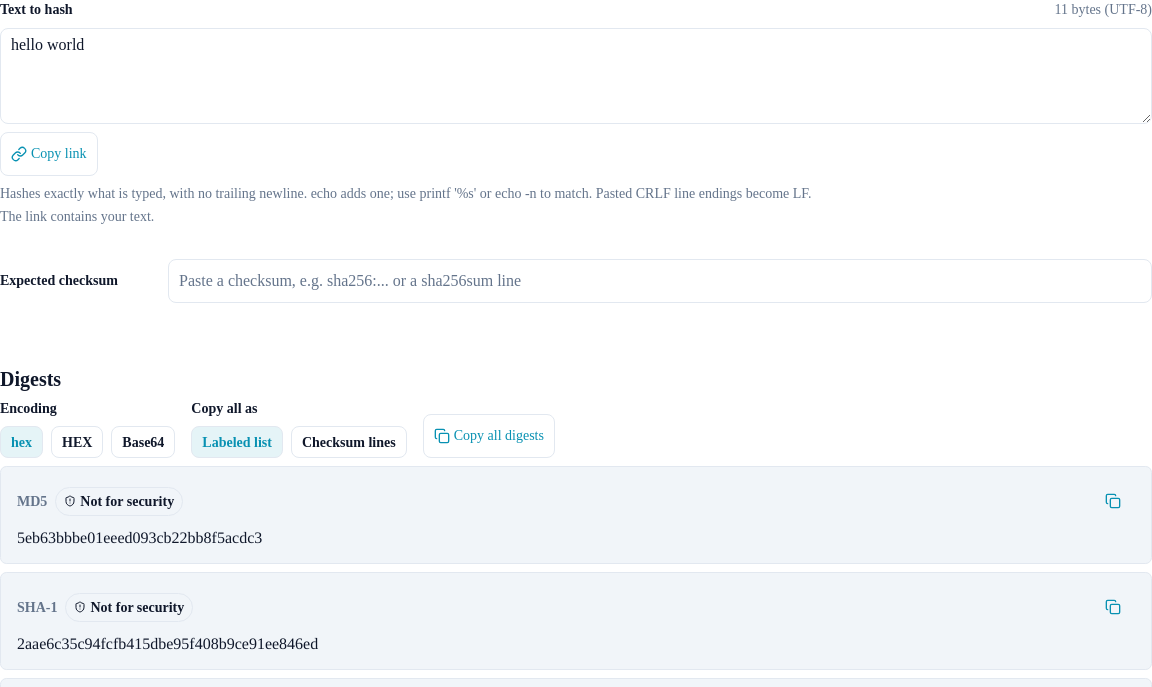
HashTool live hashing (TEXT-02) › TEXT-02: typing the sample text back shows the sample digests instantly via cancel(), without start()
Replace the text in the text box with test id "hash-input" with "abc" at {"x": 576, "y": 76}, box [0,28,1151,124]
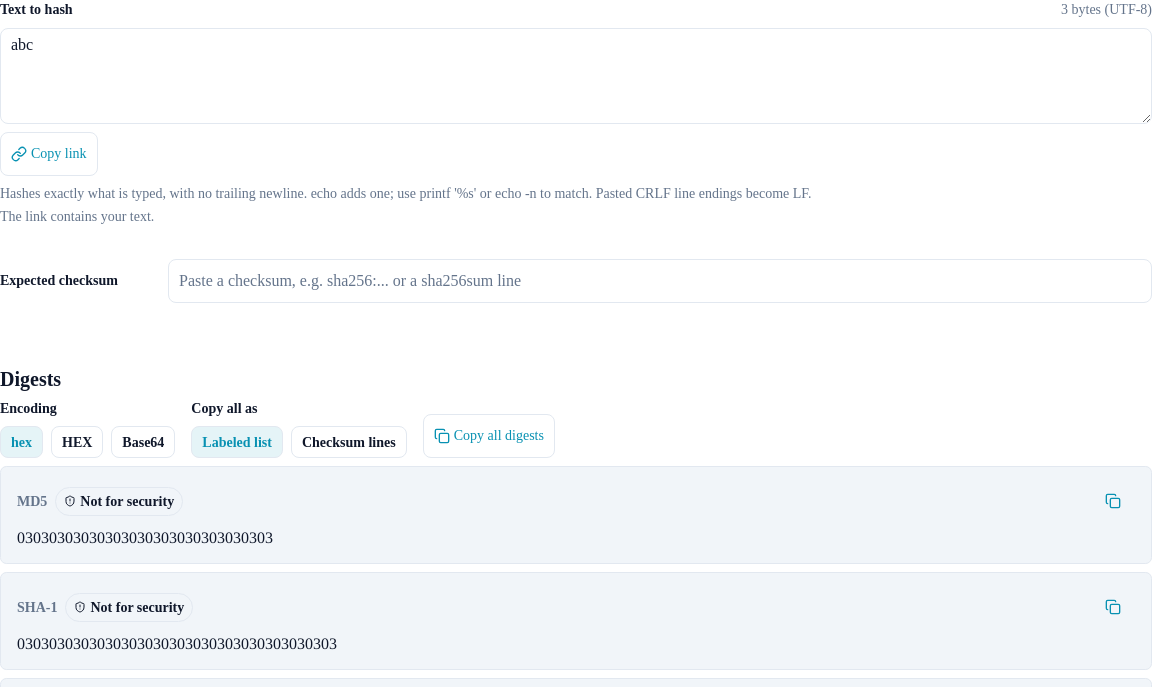
Replace the text in the text box with test id "hash-input" with "hello world" at {"x": 576, "y": 76}, box [0,28,1151,124]
(page scrolled)
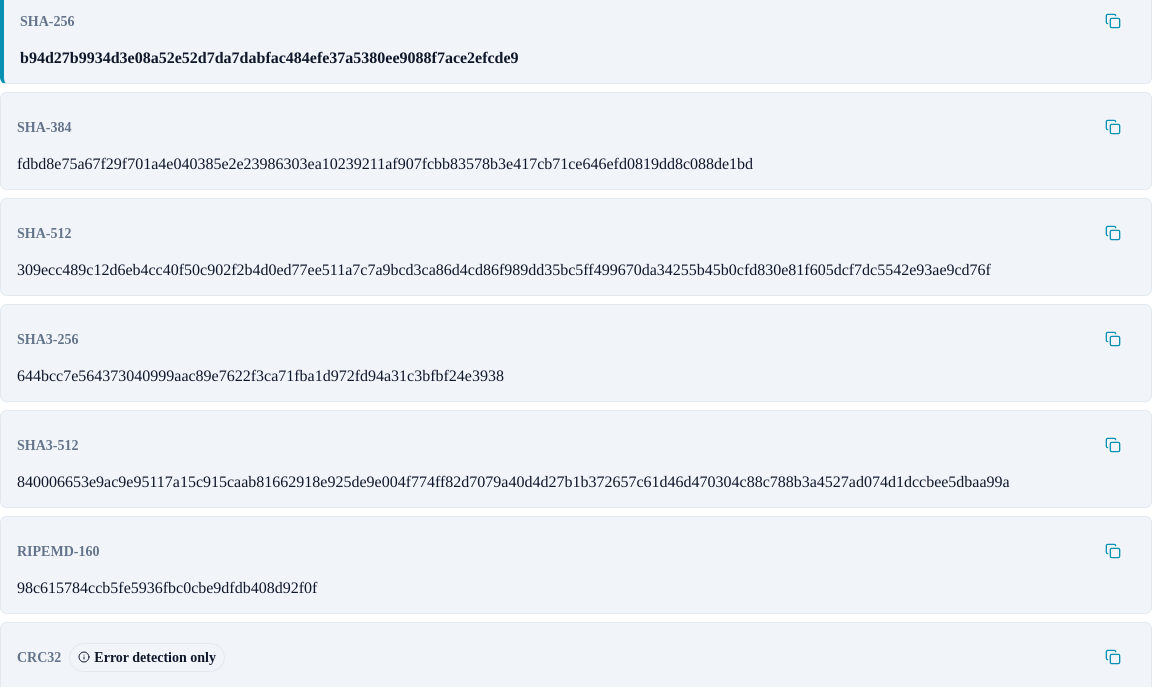
Result: the text with test id "hash-row-sha256-value" reads "b94d27b9934d3e08a52e52d7da7dabfac484efe37a5380ee9088f7ace2efcde9" at [20,50,519,67]
